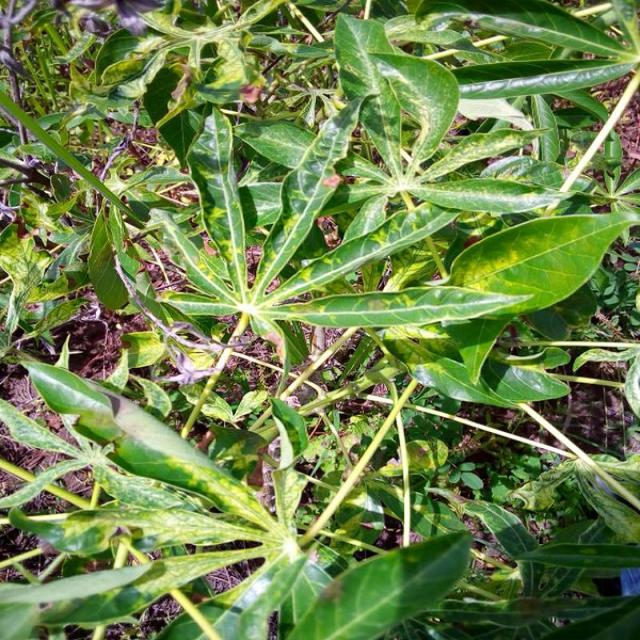cassava leaf: (4, 2, 638, 637), (285, 528, 474, 638)
